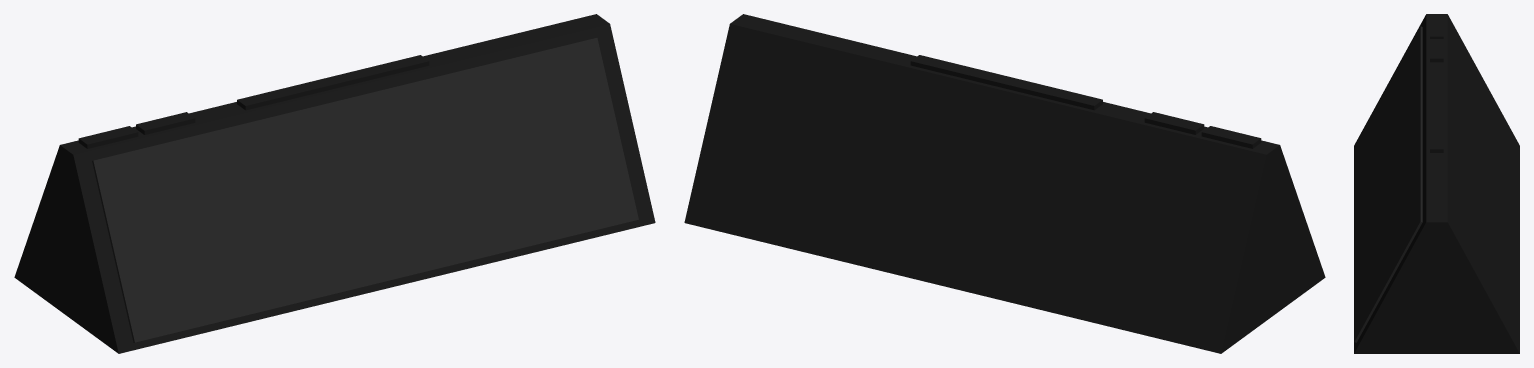
The model's file is Clock_Digital.FBX.
The picture shows the model from 3 angles, left to right: view 1: azimuth 30°, elevation 25°; view 2: azimuth 150°, elevation 25°; view 3: azimuth 270°, elevation 25°; orthographic projection. The views are drawn at different scales.
Visible parts, largest first — view 1: Clock_Digital; view 2: Clock_Digital; view 3: Clock_Digital.
Part boxes in pixels (box(x1,y1,x2,y2)): Clock_Digital: box(14, 14, 655, 353); Clock_Digital: box(684, 14, 1325, 353); Clock_Digital: box(1354, 14, 1519, 353).
Size of the model in its own units: 25.37 by 7.69 by 8.55.
1 material, 1 textured.
